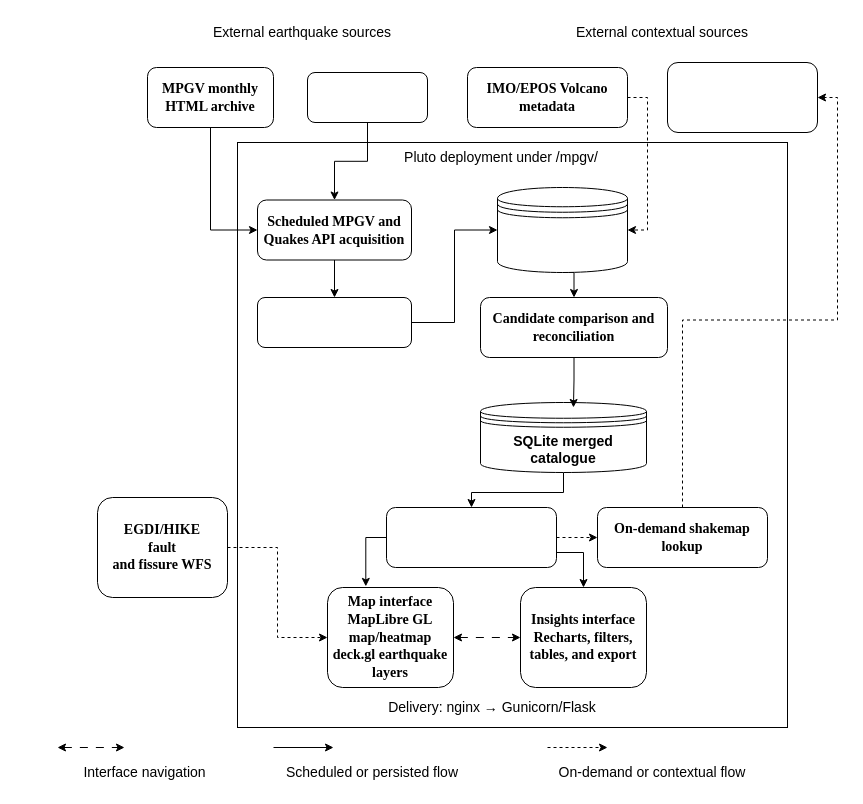
The diagram is 863 pixels wide and 804 high, and some of its shapes have lost their labels. The centre of each missing label's shape, as x and y in pixels:
Flask backend/API: (471,537)
IMO Quakes API: (367,97)
IMO/EPOS Shakemap service: (742,97)
Parsing and normalisation: (334,322)
SQLite seperate source and volcano tables: (562,229)
